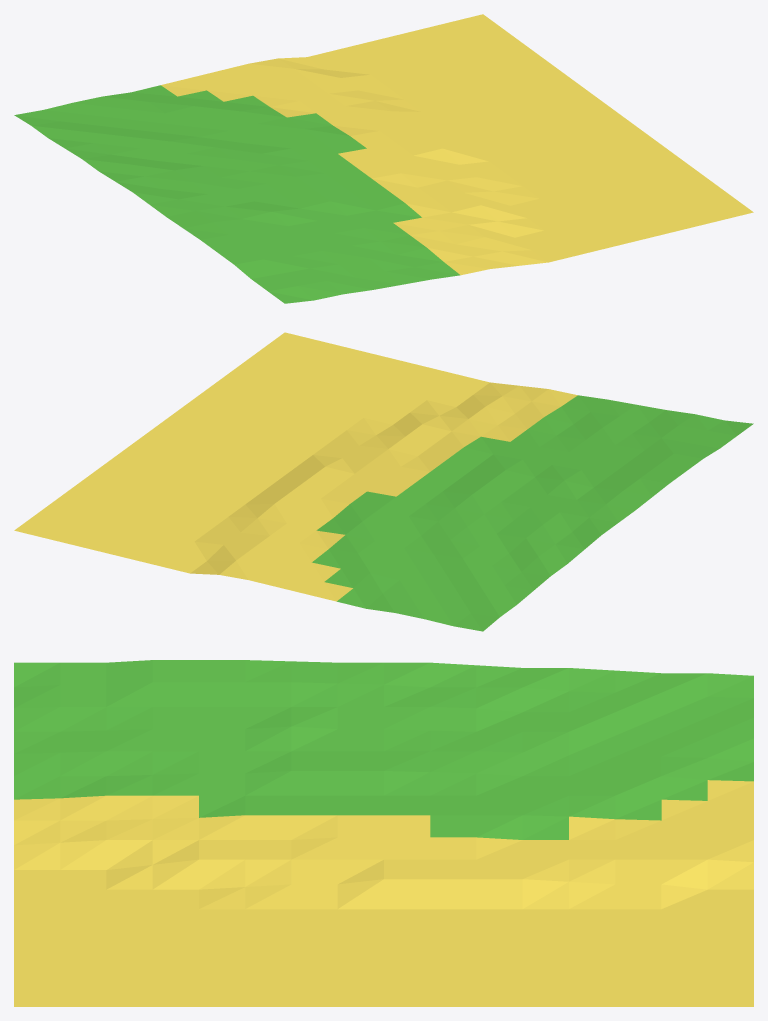
The model's file is natura_world_189.gltf.
3 renders of one model, top to bottom at view 1: azimuth 30°, elevation 25°; view 2: azimuth 150°, elevation 25°; view 3: azimuth 270°, elevation 25°, orthographic. The views are drawn at different scales.
Parts seen in each view (by area): view 1: natura_world.189; view 2: natura_world.189; view 3: natura_world.189.
Boxes of the visible parts, <box> form: natura_world.189: <box>14,14,753,303</box>; natura_world.189: <box>14,332,753,631</box>; natura_world.189: <box>14,660,753,1006</box>.
Bounding box in the file's own units: 0.125 × 0.00637 × 0.125.
